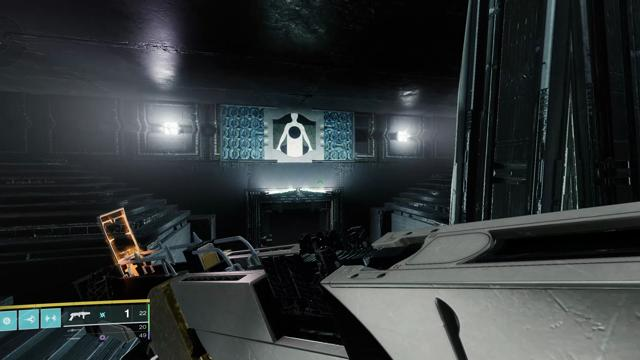grief: (272, 112, 316, 157)
